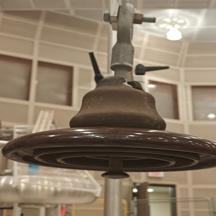insulator: (1, 69, 216, 182)
